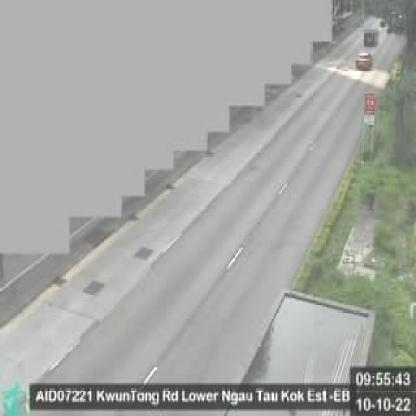Car: (354, 50, 373, 69), (364, 27, 378, 49)
